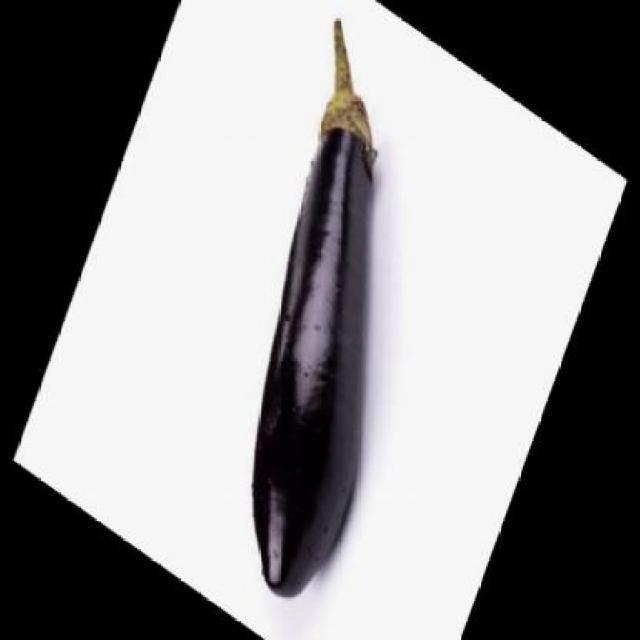eggplant: (228, 3, 411, 616)
